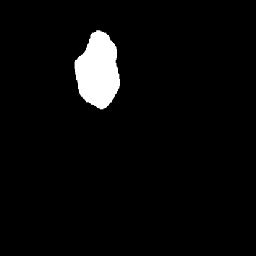mass: (72, 61, 107, 128)
